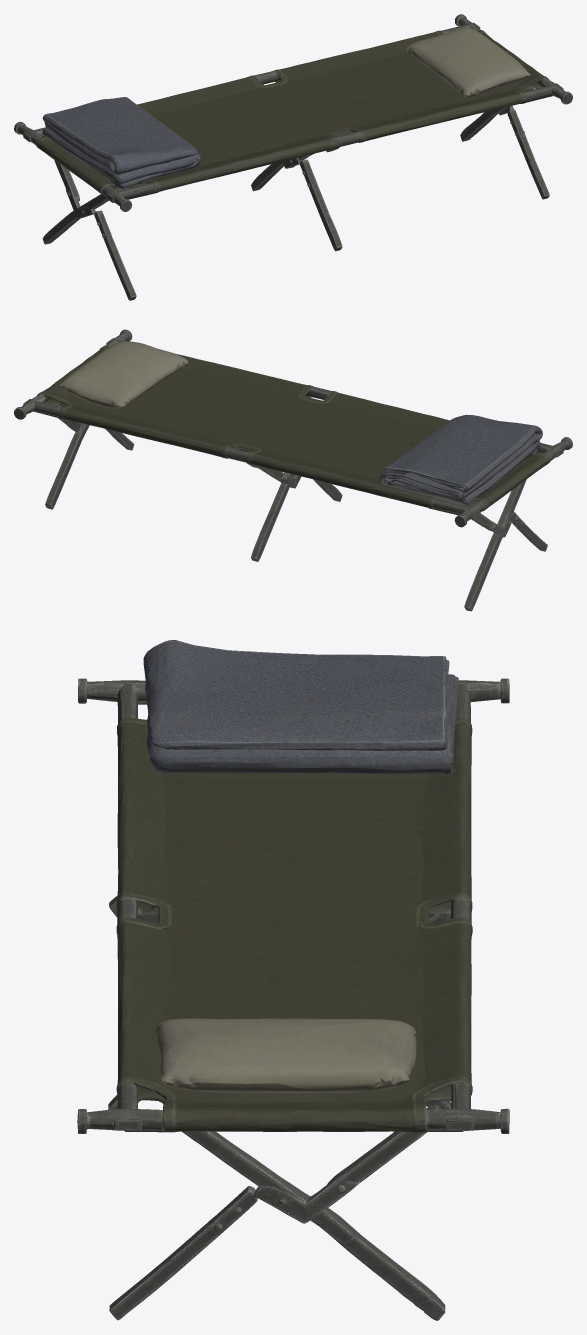
File: brandina.glb
3 renders of one model, top to bottom at view 1: azimuth 30°, elevation 25°; view 2: azimuth 150°, elevation 25°; view 3: azimuth 270°, elevation 25°, orthographic. The views are drawn at different scales.
Parts seen in each view (by area): view 1: Mesh_0; view 2: Mesh_0; view 3: Mesh_0.
Part boxes in pixels (box(x1,y1,x2,y2)): Mesh_0: box(14, 14, 572, 300); Mesh_0: box(14, 329, 572, 611); Mesh_0: box(77, 640, 509, 1320).
Bounding box in the file's own units: 1.9 × 0.5468 × 0.7885.
1 material, 1 textured.
